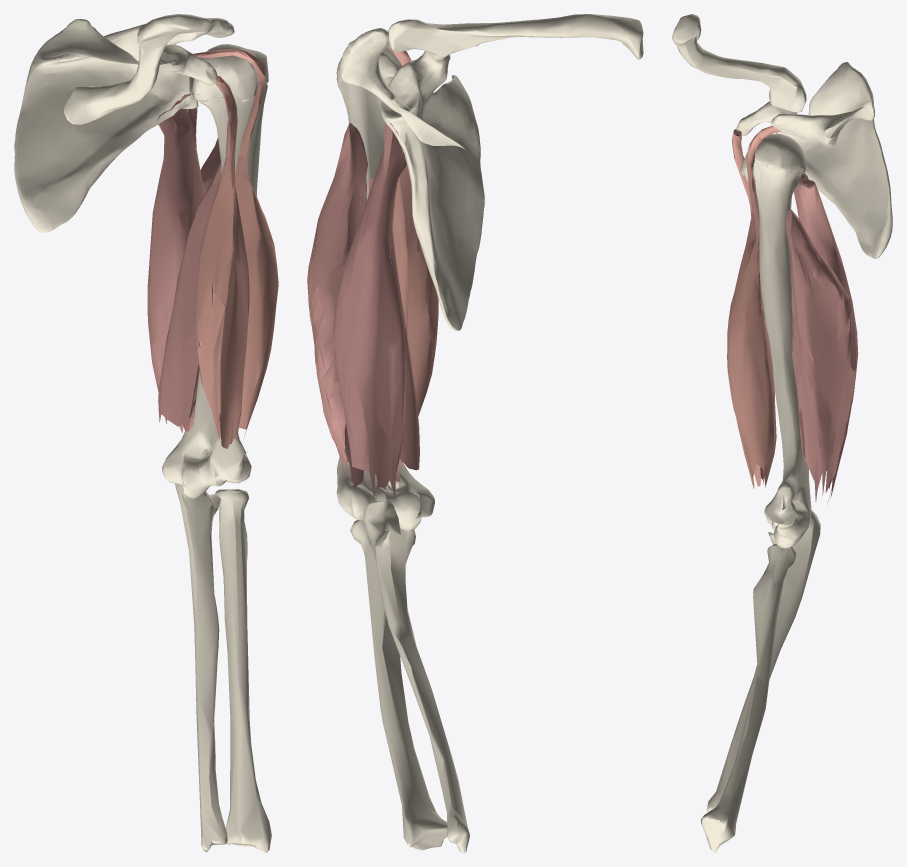
File: movement-arm.glb
3 renders of one model, left to right at view 1: azimuth 30°, elevation 25°; view 2: azimuth 150°, elevation 25°; view 3: azimuth 270°, elevation 25°, orthographic. The views are drawn at different scales.
Parts seen in each view (by area): view 1: Left scapula, Short head of left biceps brachii, Left humerus, Left radius, Long head of left triceps brachii, Left ulna, Long head of left biceps brachii, Medial head of left triceps brachii, Left clavicle, Lateral head of left triceps brachii; view 2: Left scapula, Long head of left triceps brachii, Lateral head of left triceps brachii, Left ulna, Left radius, Left humerus, Left clavicle, Short head of left biceps brachii, Medial head of left triceps brachii; view 3: Left humerus, Left scapula, Lateral head of left triceps brachii, Long head of left biceps brachii, Left radius, Left clavicle, Left ulna, Long head of left triceps brachii, Short head of left biceps brachii.
Part boxes in pixels (left/top/right/bottom): Left scapula: left=14, top=18, right=234, bottom=232; Short head of left biceps brachii: left=195, top=76, right=249, bottom=448; Left humerus: left=162, top=44, right=268, bottom=498; Left radius: left=215, top=489, right=271, bottom=852; Long head of left triceps brachii: left=147, top=93, right=204, bottom=433; Left ulna: left=175, top=483, right=227, bottom=851; Long head of left biceps brachii: left=193, top=48, right=278, bottom=436; Medial head of left triceps brachii: left=158, top=162, right=221, bottom=431; Left clavicle: left=64, top=14, right=212, bottom=124; Lateral head of left triceps brachii: left=200, top=138, right=220, bottom=195; Left scapula: left=339, top=28, right=484, bottom=330; Long head of left triceps brachii: left=333, top=122, right=406, bottom=498; Lateral head of left triceps brachii: left=307, top=122, right=367, bottom=488; Left ulna: left=363, top=501, right=469, bottom=852; Left radius: left=350, top=520, right=447, bottom=850; Left humerus: left=336, top=47, right=434, bottom=531; Left clavicle: left=388, top=14, right=643, bottom=59; Short head of left biceps brachii: left=392, top=165, right=438, bottom=415; Medial head of left triceps brachii: left=346, top=178, right=419, bottom=481; Left humerus: left=740, top=134, right=811, bottom=548; Left scapula: left=736, top=62, right=892, bottom=258; Lateral head of left triceps brachii: left=785, top=209, right=855, bottom=501; Long head of left biceps brachii: left=727, top=126, right=780, bottom=488; Left radius: left=701, top=544, right=796, bottom=852; Left clavicle: left=672, top=14, right=806, bottom=112; Left ulna: left=706, top=509, right=820, bottom=811; Long head of left triceps brachii: left=793, top=173, right=858, bottom=504; Short head of left biceps brachii: left=727, top=129, right=763, bottom=488.
Bounding box in the file's own units: 0.3625 × 1.14 × 0.3043.
